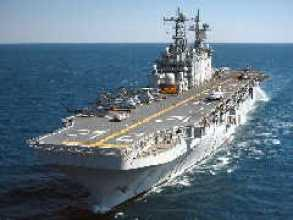warship: (31, 4, 271, 199)
